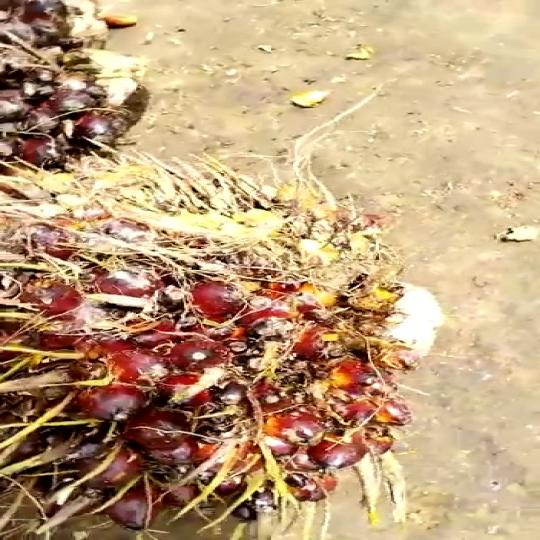masak: (0, 171, 487, 540)
